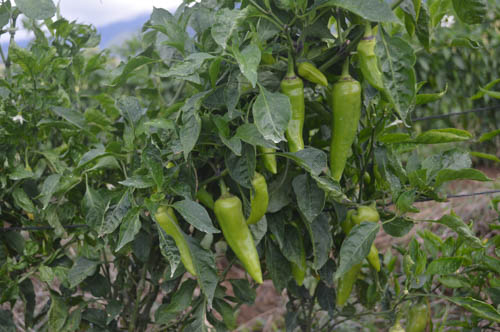ChiliPepper: (327, 204, 381, 308), (326, 80, 364, 182), (214, 198, 261, 279), (156, 207, 197, 279), (280, 78, 312, 159), (242, 176, 270, 227), (361, 43, 381, 90), (255, 134, 277, 169), (354, 206, 380, 231), (298, 65, 328, 82)
